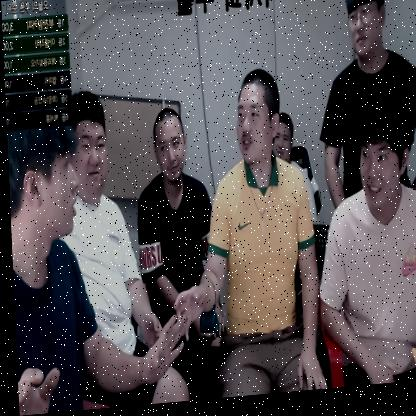streamer: (4, 82, 186, 416), (161, 68, 329, 405), (48, 84, 186, 413), (309, 85, 416, 395), (131, 105, 225, 407), (311, 0, 416, 237), (267, 115, 316, 241)
